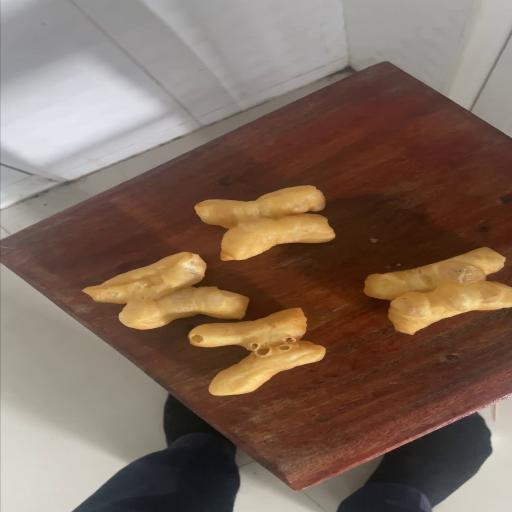street_golden_defect: (361, 249, 511, 334), (80, 253, 249, 328), (188, 309, 324, 396)
street_golden_good: (195, 186, 334, 259)
